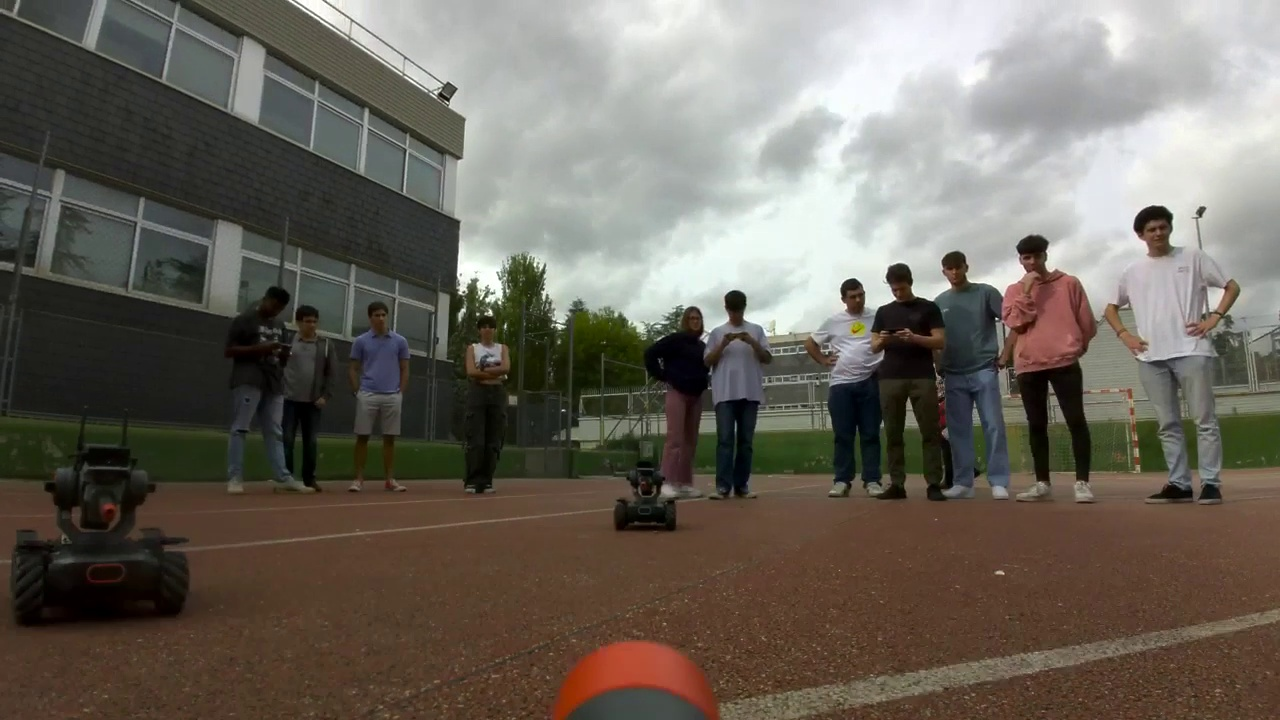robot: (14, 448, 188, 623), (615, 463, 676, 531)
